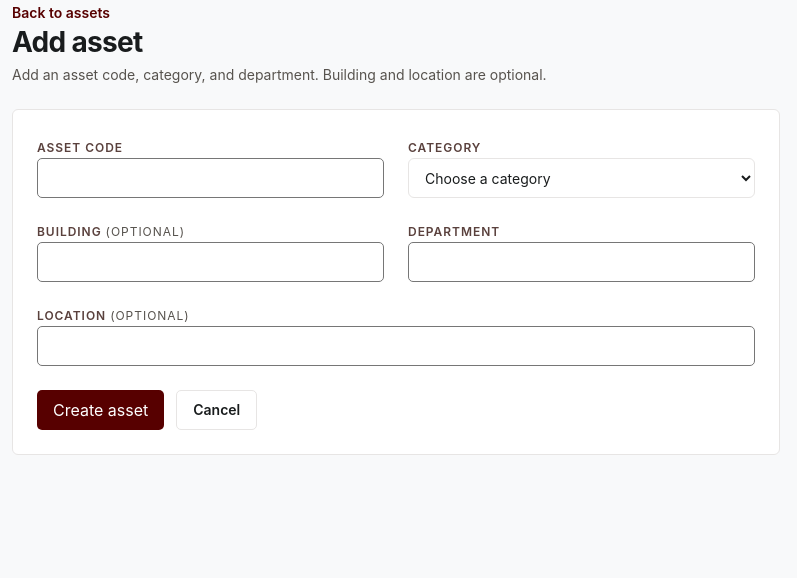
it: AssetCreate feature component › handles backend 409 Conflict response mapping to assetCode field error
Type "FE-001" into the field labelled "Asset code". click: (210, 178)
box: [37, 158, 384, 198]
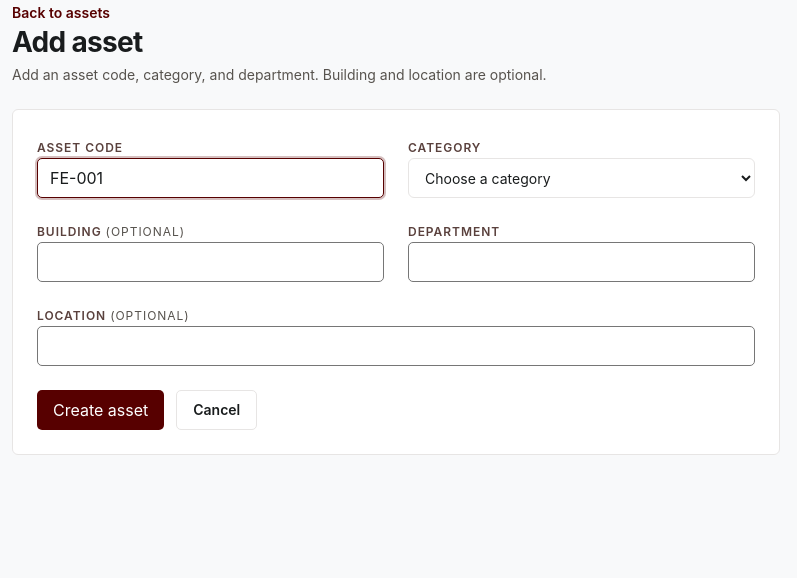
Select "Fire extinguishers" in the dropdown labelled "Category". click: (582, 178)
box: [408, 158, 755, 198]
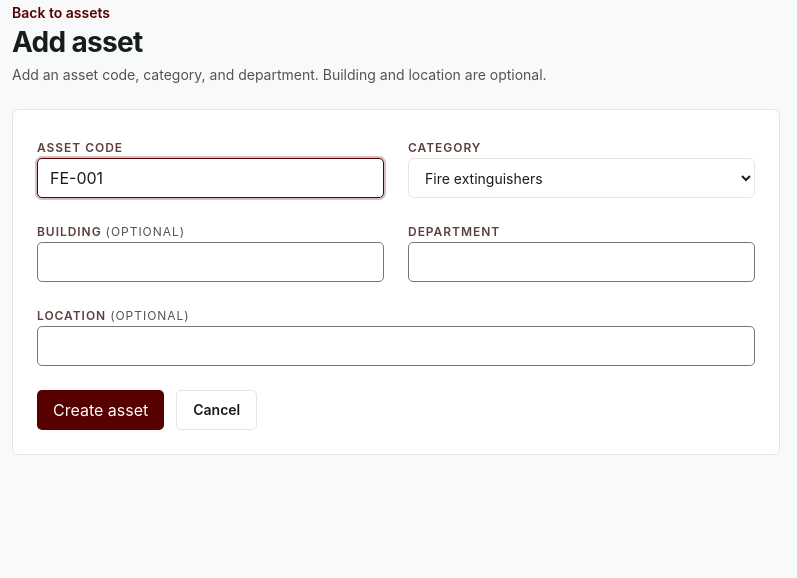
Type "GSD" into the field labelled "Department". click: (582, 262)
box: [408, 242, 755, 282]
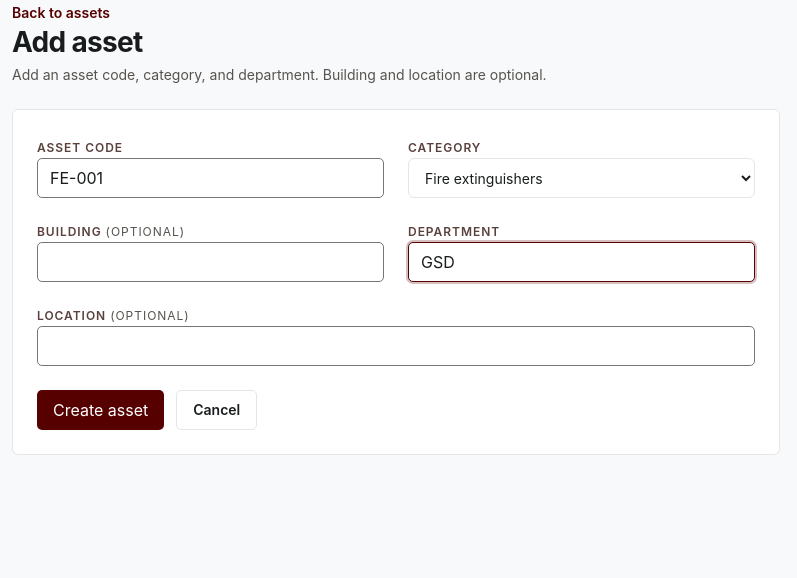
Click the button "Create asset". click: (101, 410)
box: [37, 390, 164, 430]
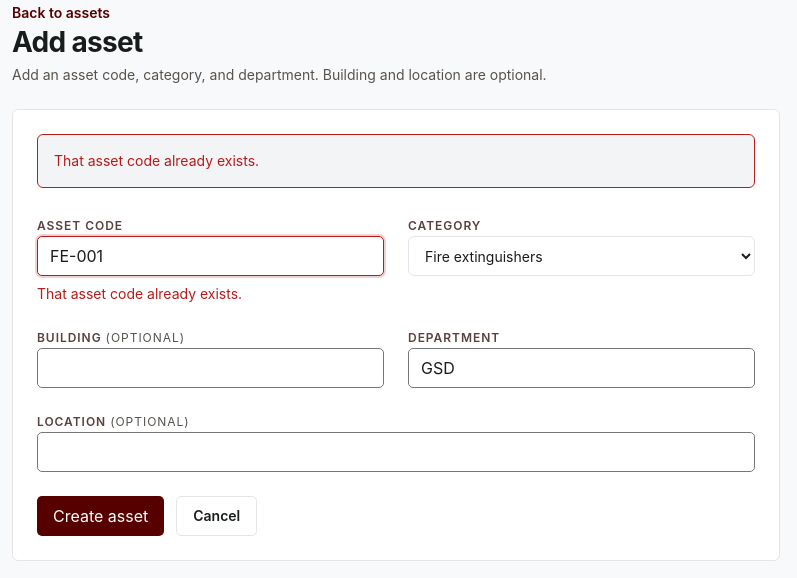
Check: the text "That asset code already exists." is shown, box [37, 134, 755, 188]
Type "-UPDATED" into the field labelled "Asset code". click: (210, 256)
box: [37, 236, 384, 276]
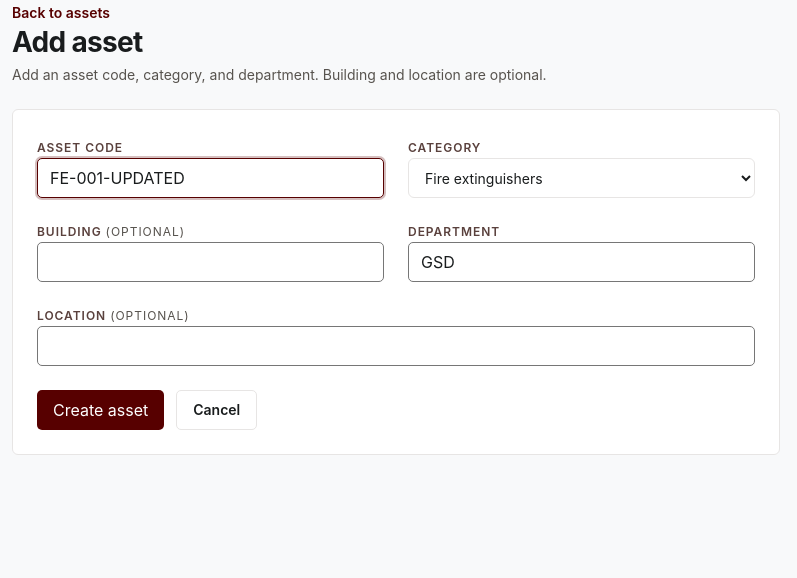
Check: the text "That asset code already exists." is gone
